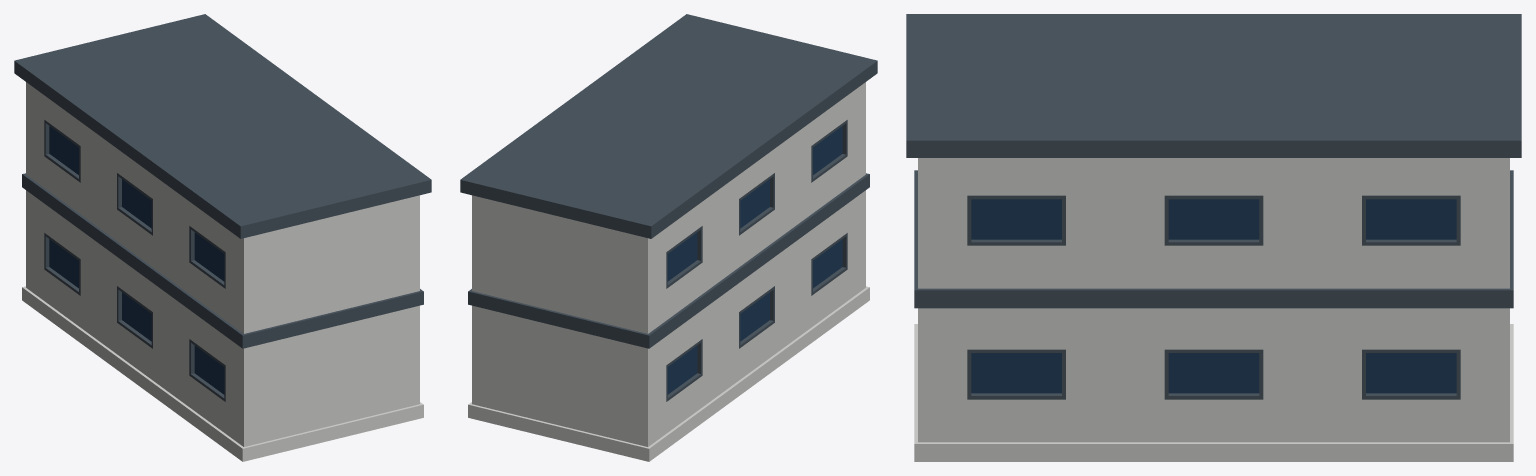
The model's file is site_office.fbx.
The picture shows the model from 3 angles, left to right: view 1: azimuth 30°, elevation 25°; view 2: azimuth 150°, elevation 25°; view 3: azimuth 270°, elevation 25°; orthographic projection. The views are drawn at different scales.
Visible parts, largest first — view 1: a1062/0/site_office; view 2: a1062/0/site_office; view 3: a1062/0/site_office.
Boxes of the visible parts, x1,y1,x2,y2 form: a1062/0/site_office: (14, 14, 431, 461); a1062/0/site_office: (460, 14, 877, 461); a1062/0/site_office: (906, 14, 1521, 461).
Bounding box in the file's own units: 7.6 × 9.08 × 15.6.
